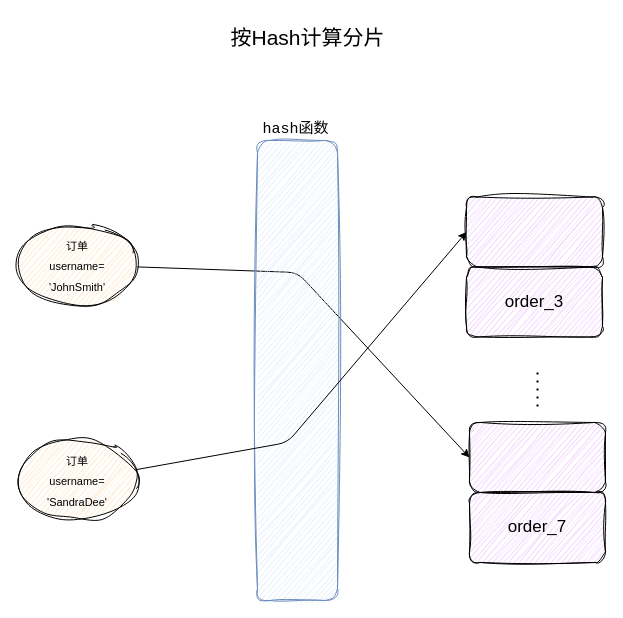
Image size: 623x618. Some labels were removed from this diagram. Each missing label, with the centre of its shape:
order_2: point (534, 231)
order_6: point (537, 457)
